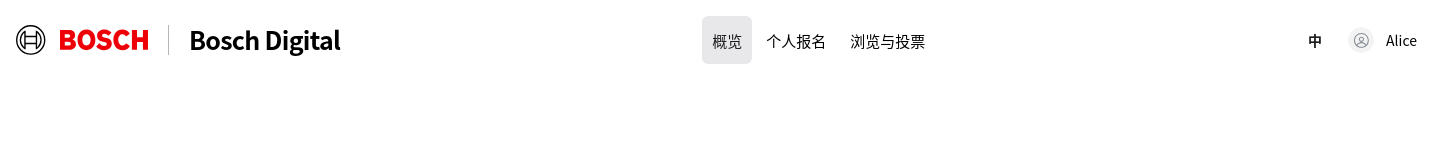
Test: Header › defaults to Chinese and toggles to English
The image size is (1434, 160).
Click the button named "切换到英文". click: (1315, 40)
box: x1=1297 y1=23 x2=1333 y2=57
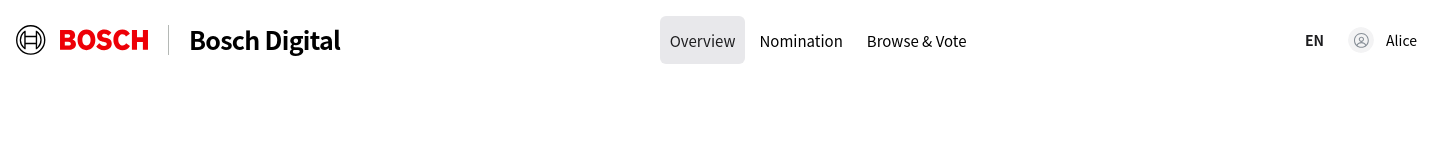
Check: the button with aria-label "Switch to Chinese" reads "EN", box x1=1296 y1=23 x2=1333 y2=57
Check: the button with aria-label "Switch to Chinese" no longer shows "中", box x1=1296 y1=23 x2=1333 y2=57
